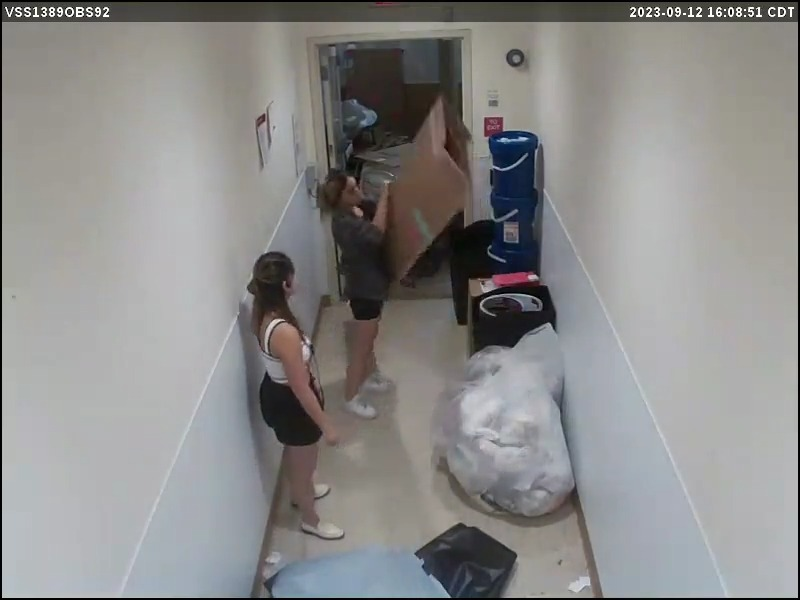No-gloves: (315, 416, 350, 453)
